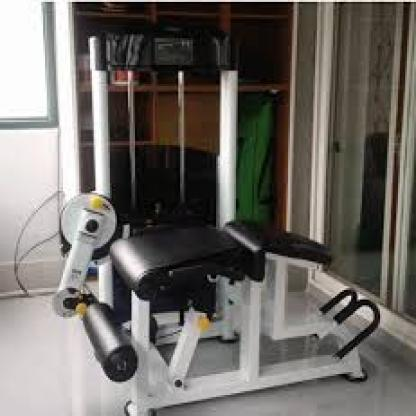leg extension: (23, 16, 392, 416)
